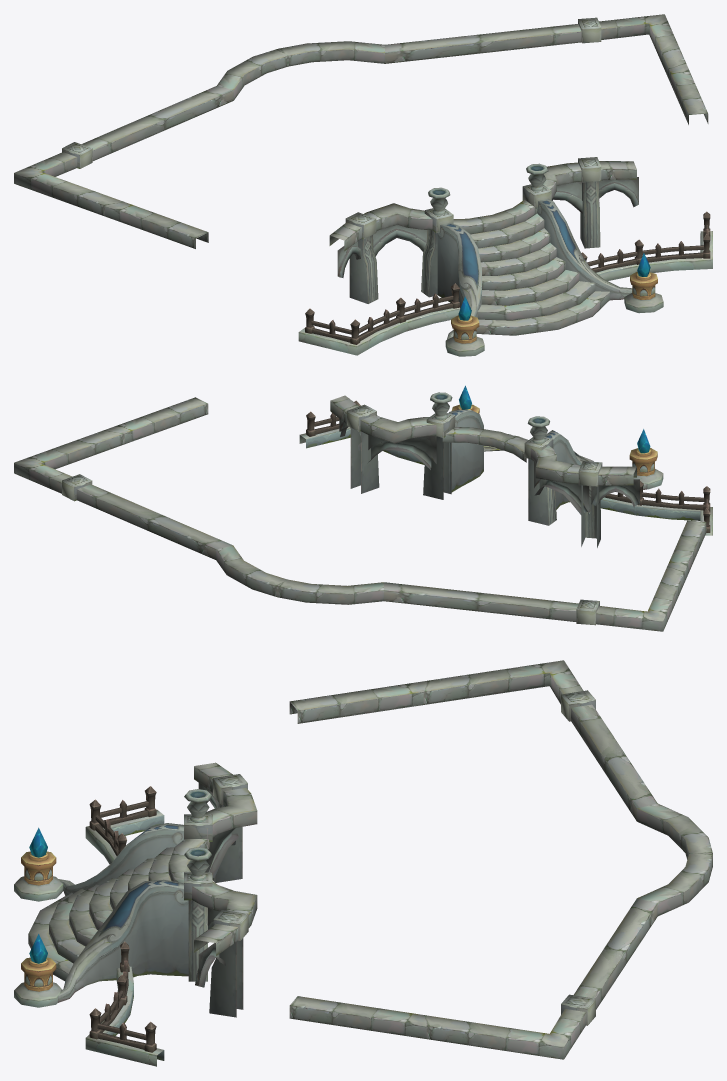
The model's file is Map_06_house12.FBX.
3 renders of one model, top to bottom at view 1: azimuth 30°, elevation 25°; view 2: azimuth 150°, elevation 25°; view 3: azimuth 270°, elevation 25°, orthographic. The views are drawn at different scales.
Parts seen in each view (by area): view 1: Map_06_house12; view 2: Map_06_house12; view 3: Map_06_house12.
Part boxes in pixels (x1,y1,x2,y2): Map_06_house12: [14, 14, 712, 356]; Map_06_house12: [14, 385, 712, 631]; Map_06_house12: [14, 660, 712, 1066].
Bounding box in the file's own units: 2435 × 1861 × 355.
